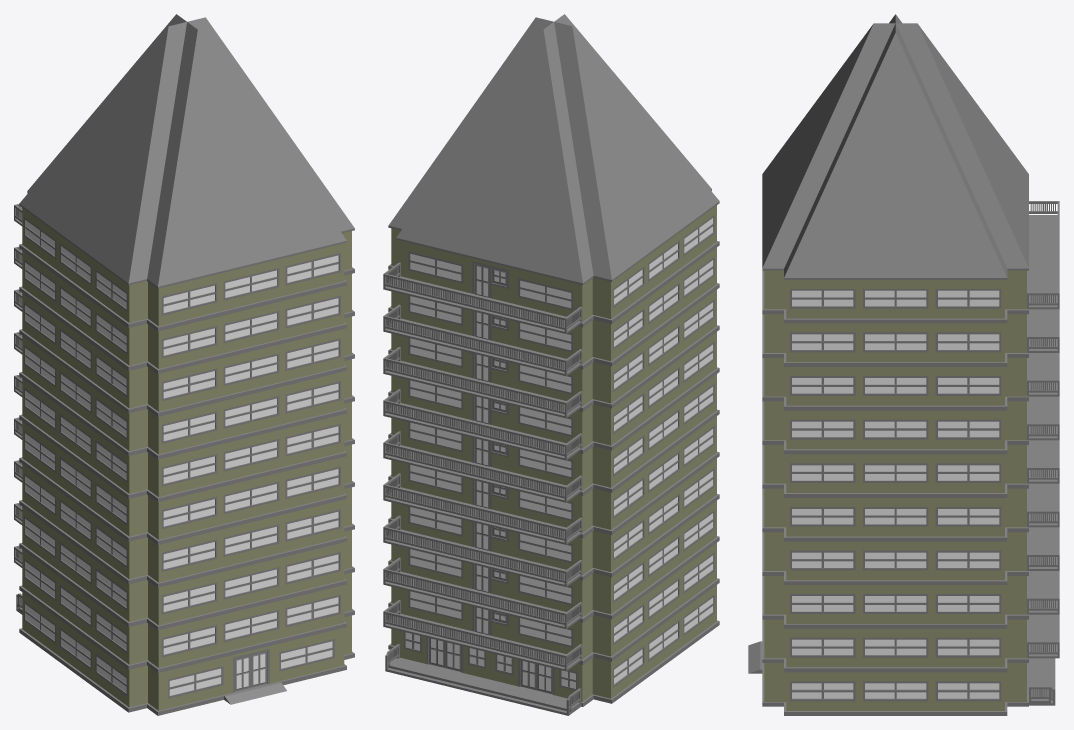
The model's file is Business Building 2.fbx.
3 renders of one model, left to right at view 1: azimuth 30°, elevation 25°; view 2: azimuth 150°, elevation 25°; view 3: azimuth 270°, elevation 25°, orthographic. The views are drawn at different scales.
Visible parts, largest first — view 1: building_001; view 2: building_001; view 3: building_001.
Part boxes in pixels (x1=…): building_001: x1=14, y1=14, x2=354, y2=715; building_001: x1=383, y1=14, x2=719, y2=715; building_001: x1=748, y1=14, x2=1059, y2=715.
Size of the model in its own units: 1220 by 3210 by 1424.
